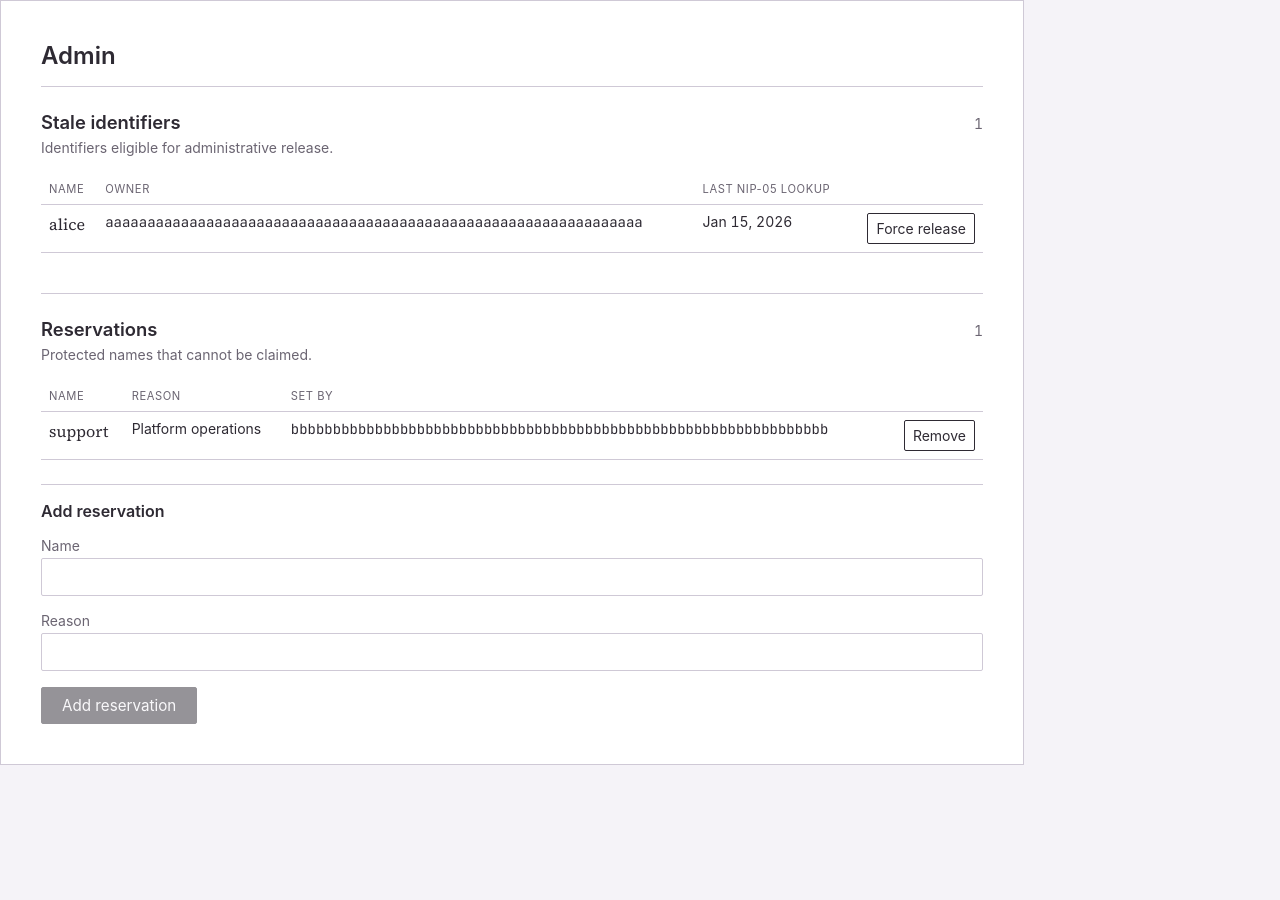
Test: admin reservation creation › recovers from a rejected create request
Step 1. Type "new-name" into the field labelled "Name" → [512, 577], box [41,558,983,596]
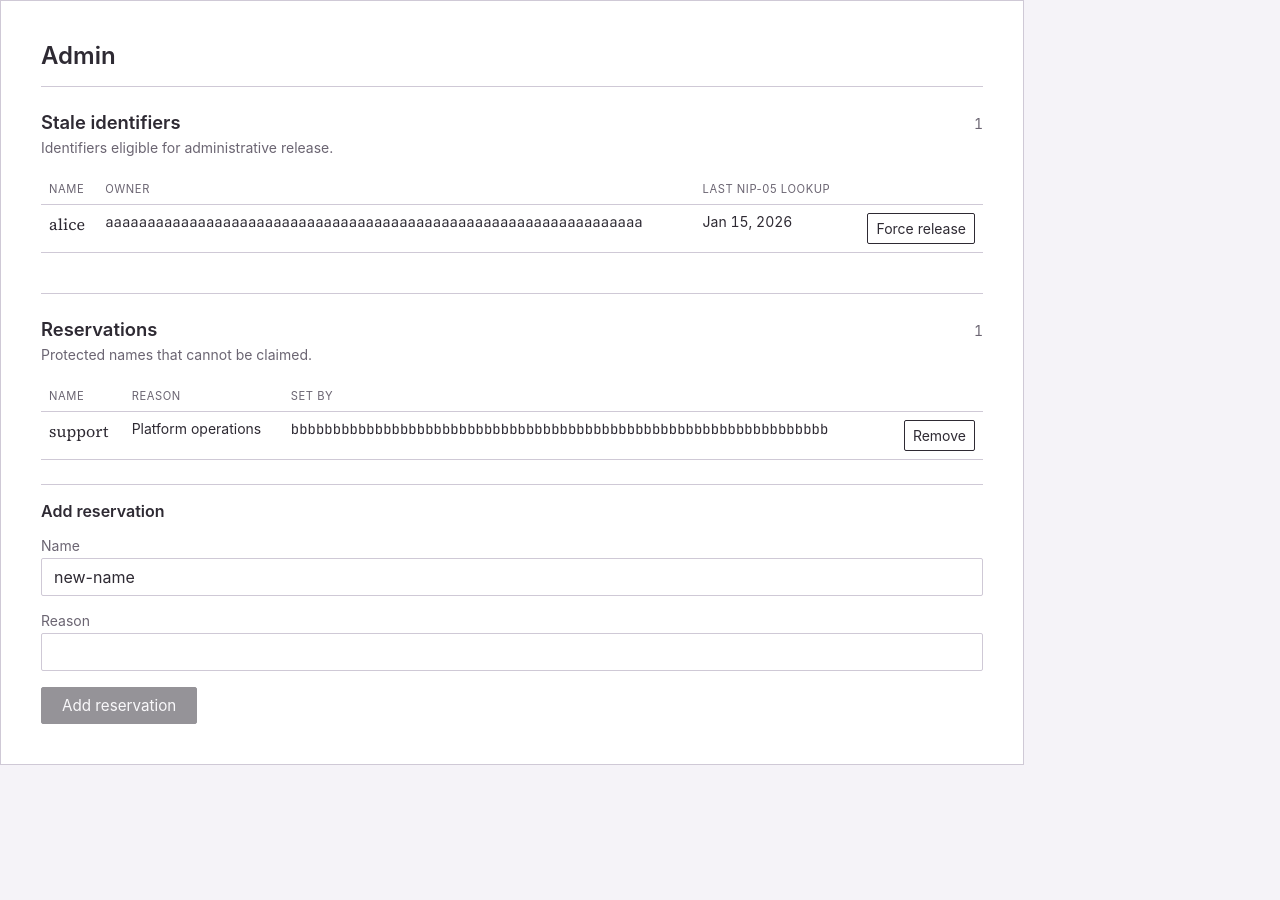
Step 2. Type "Staff use" into the field labelled "Reason" → [512, 652], box [41,633,983,671]
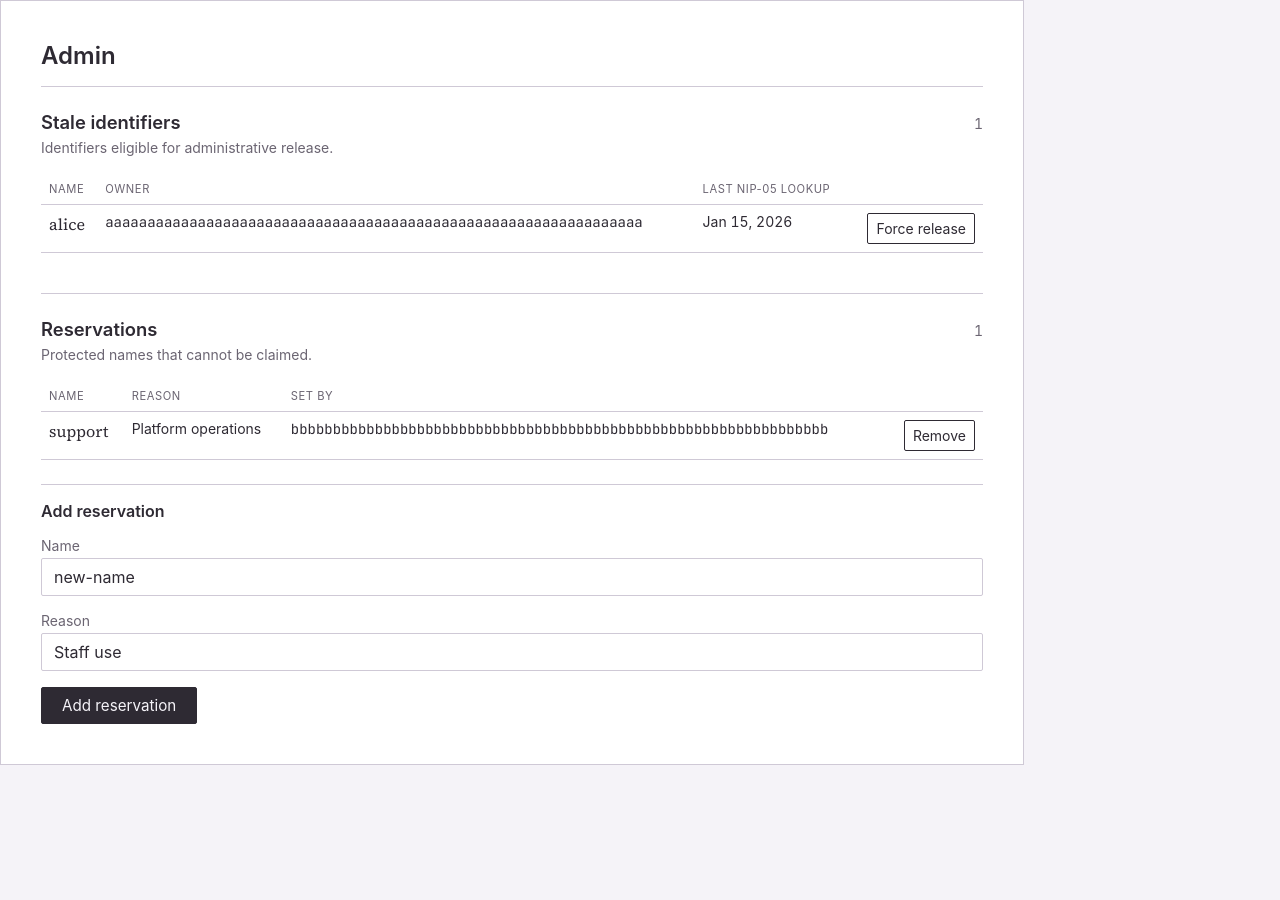
Step 3. Click the button "Add reservation" → [119, 706], box [41,687,197,724]
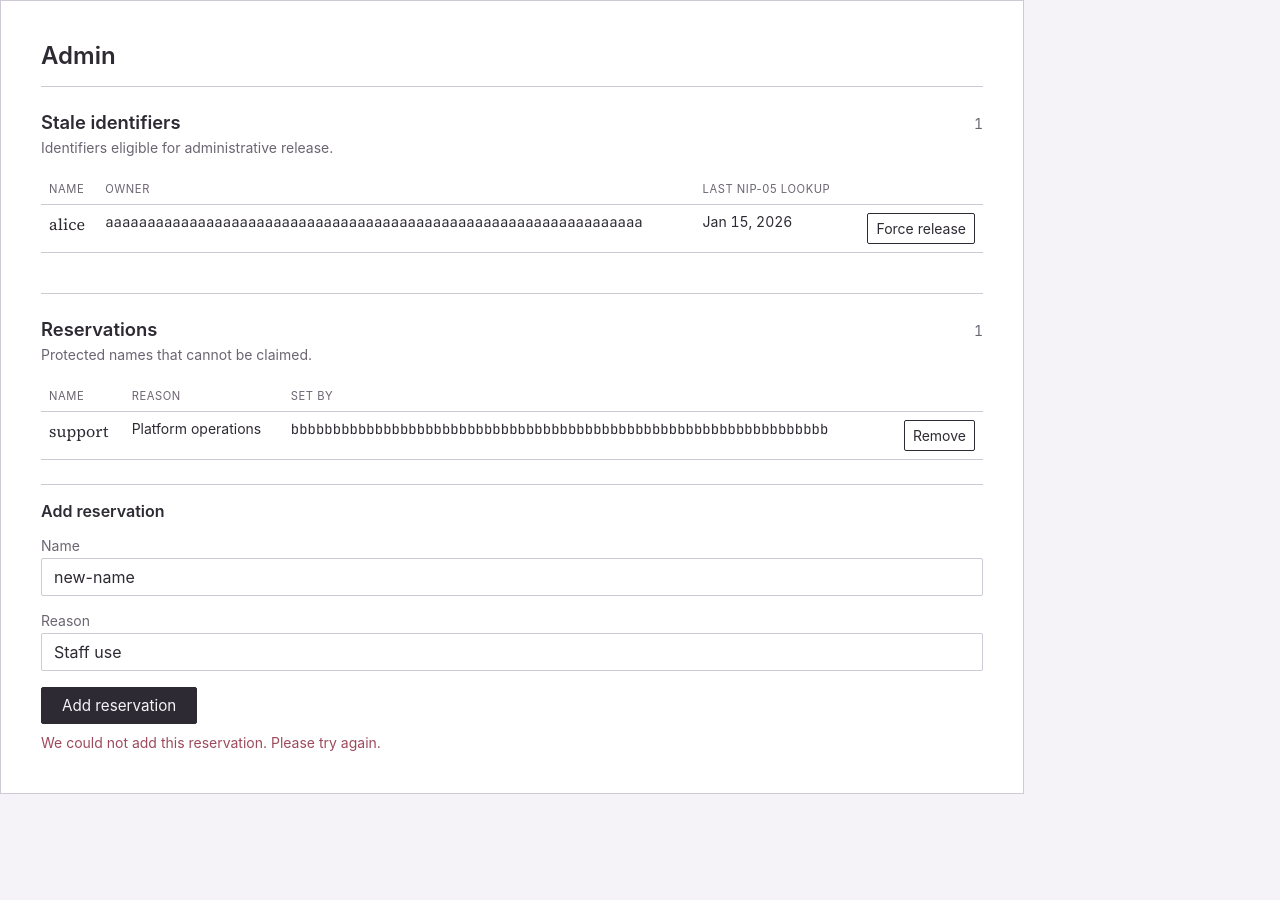
Result: the button "Add reservation" is enabled at [41,687,197,724]
Result: the text "We could not add this reservation. Please try again." is shown at [41,734,381,751]
